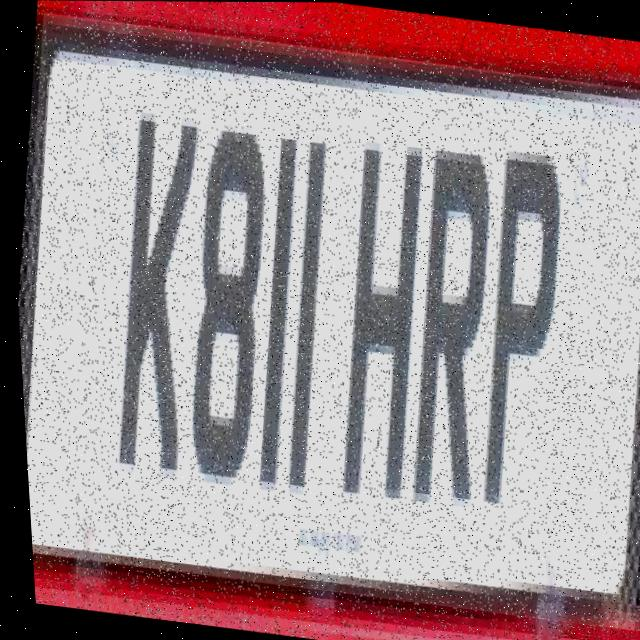LicensePlate: (1, 12, 640, 630)
